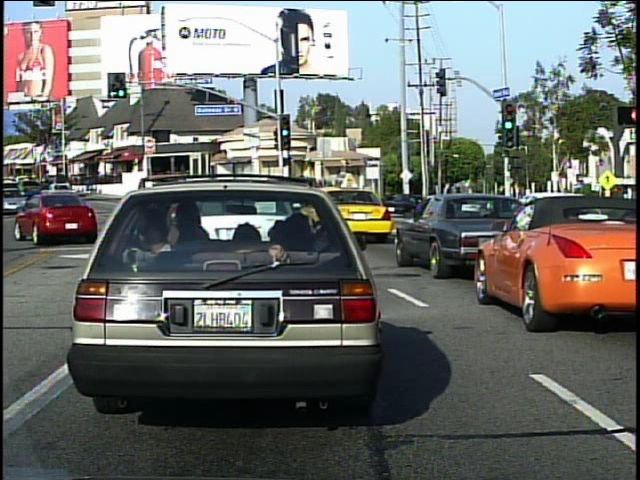person: (450, 183, 472, 229)
